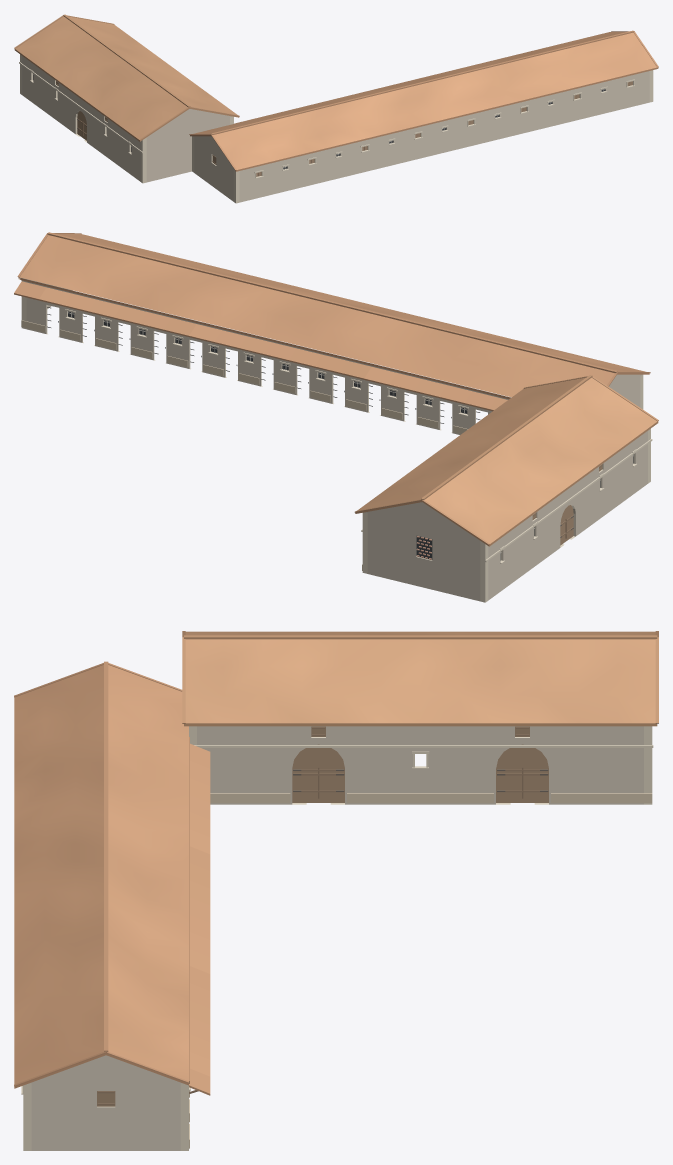
The model's file is SM_BM_BE_1_Stables.glb.
The picture shows the model from 3 angles, top to bottom: view 1: azimuth 30°, elevation 25°; view 2: azimuth 150°, elevation 25°; view 3: azimuth 270°, elevation 25°; orthographic projection. The views are drawn at different scales.
Parts seen in each view (by area): view 1: SM_BM_BE_1_Stables; view 2: SM_BM_BE_1_Stables; view 3: SM_BM_BE_1_Stables.
Boxes of the visible parts, left/top/right/bottom form: SM_BM_BE_1_Stables: left=14, top=14, right=658, bottom=203; SM_BM_BE_1_Stables: left=14, top=232, right=658, bottom=602; SM_BM_BE_1_Stables: left=14, top=631, right=658, bottom=1150.
Bounding box in the file's own units: 62.46 × 8.42 × 38.96.
